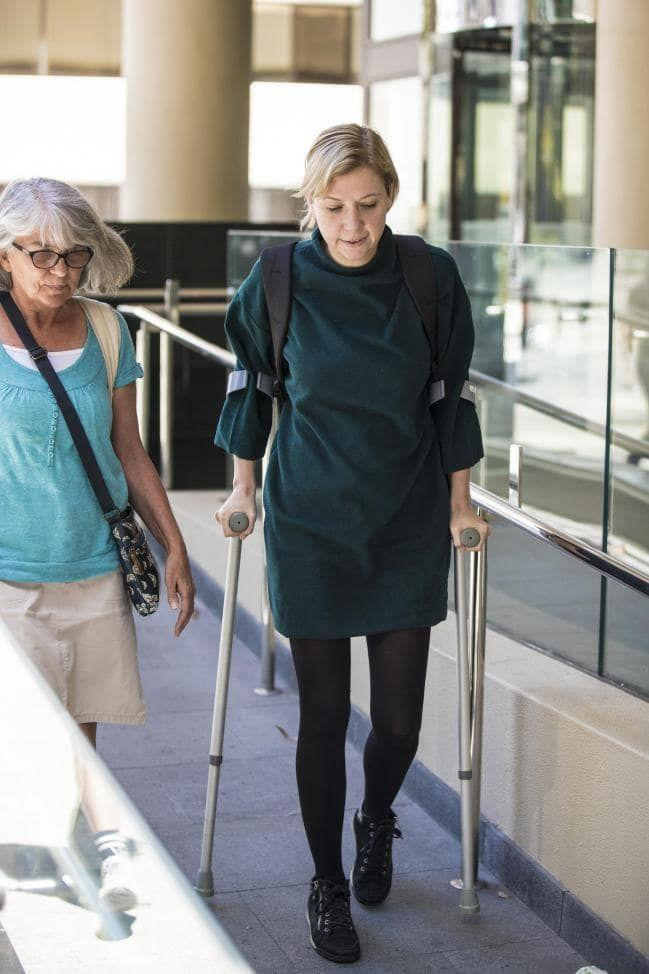crutches: (190, 113, 497, 923)
